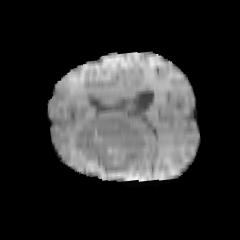glioma: (74, 120, 145, 173)
